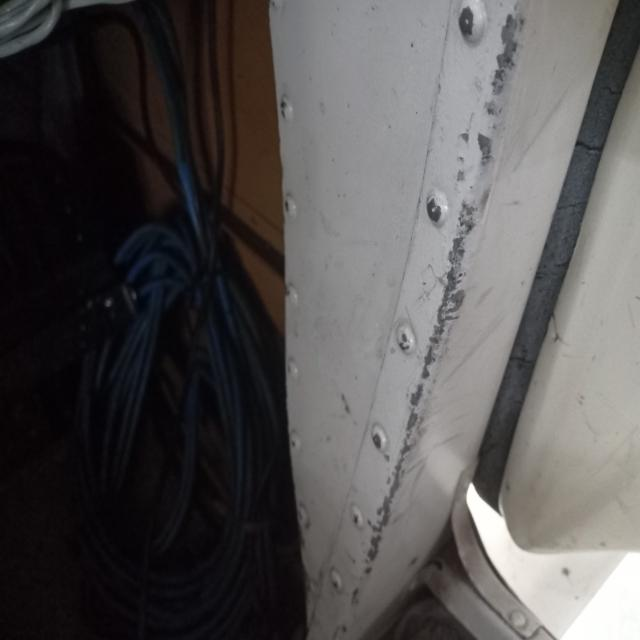Rupture: (332, 12, 544, 640)
